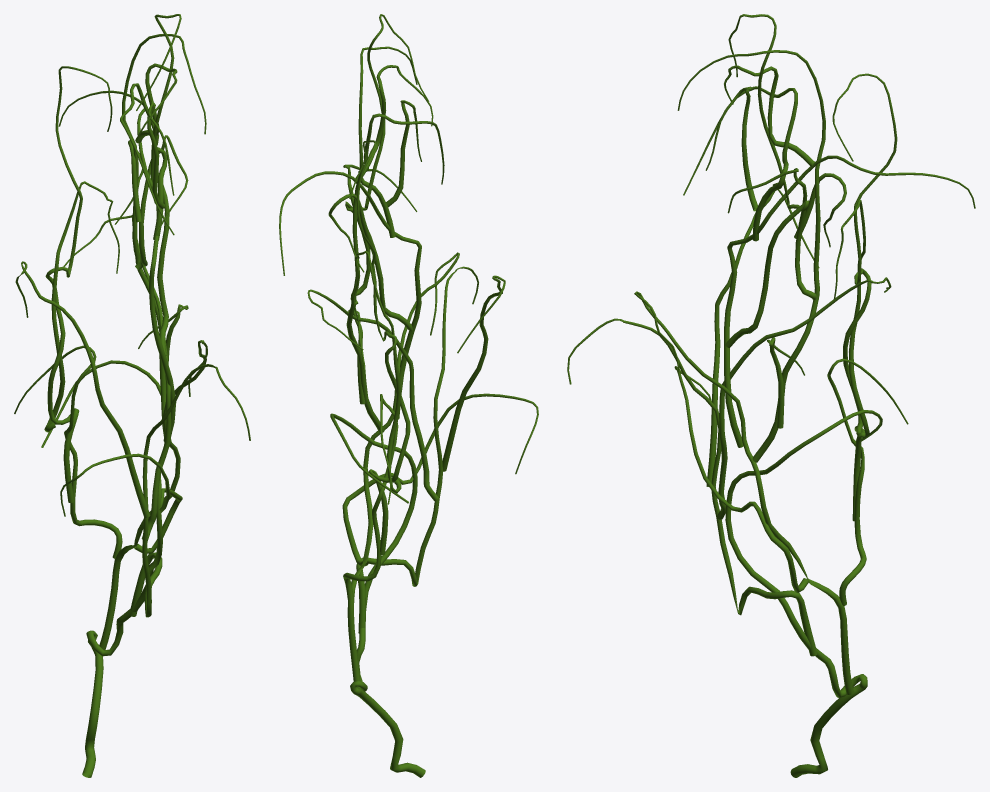
File: Vine-1.fbx
3 renders of one model, left to right at view 1: azimuth 30°, elevation 25°; view 2: azimuth 150°, elevation 25°; view 3: azimuth 270°, elevation 25°, orthographic. The views are drawn at different scales.
Visible parts, largest first — view 1: IVY_Curve; view 2: IVY_Curve; view 3: IVY_Curve.
Part boxes in pixels (x1,y1,x2,y2): IVY_Curve: (14, 14, 250, 777); IVY_Curve: (279, 14, 538, 777); IVY_Curve: (567, 14, 975, 777).
Size of the model in its own units: 0.5028 by 0.9893 by 2.13.
